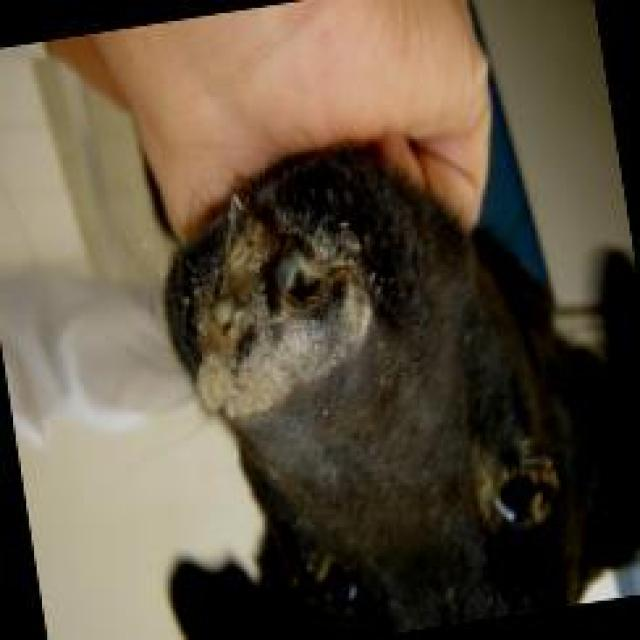fungal infection: (199, 357, 293, 419), (324, 231, 386, 316), (284, 325, 370, 379), (226, 226, 284, 289), (200, 298, 248, 350)
